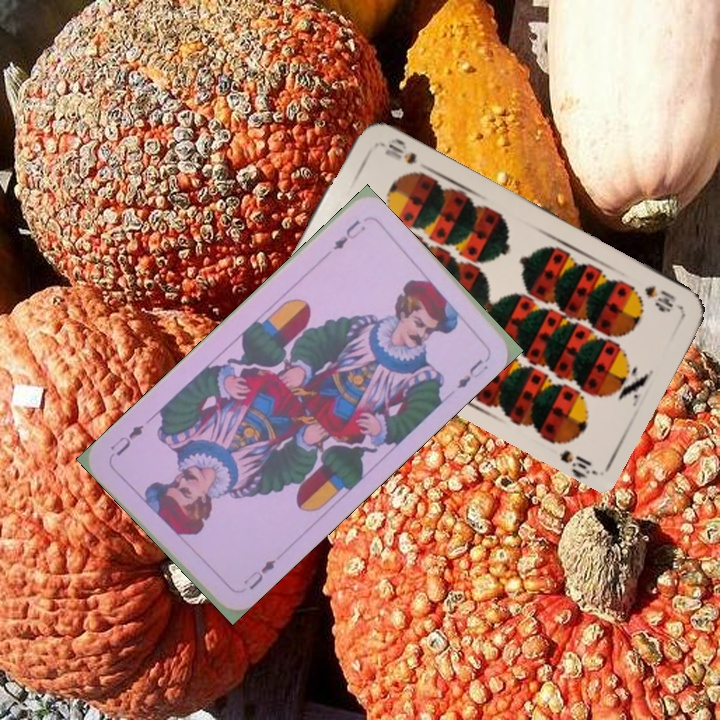EU: (329, 215, 369, 253), (239, 555, 278, 592)
S10: (640, 281, 684, 313)
